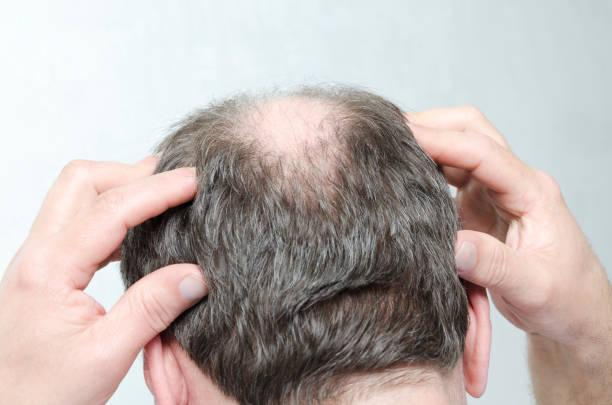dry hair: (174, 129, 217, 152), (382, 159, 407, 198)
low hair density: (237, 101, 331, 147), (272, 155, 342, 201), (327, 292, 408, 316)
